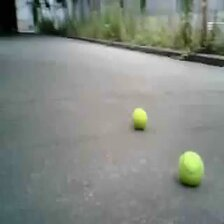tennis: (177, 150, 203, 185), (132, 107, 148, 128)
